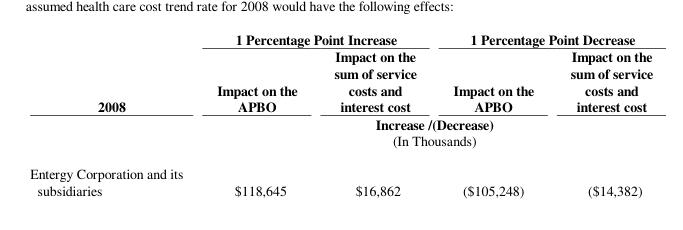table: (29, 29, 652, 198)
table column: (29, 29, 199, 198), (315, 29, 434, 198), (434, 29, 551, 198), (199, 29, 315, 198), (551, 29, 652, 198)
table column header: (29, 29, 652, 156)
table row: (29, 47, 652, 115), (29, 156, 652, 198), (29, 115, 652, 156), (29, 29, 652, 47)
table spanning cell: (29, 29, 199, 156), (199, 115, 652, 156), (199, 29, 434, 47), (434, 29, 652, 47)
